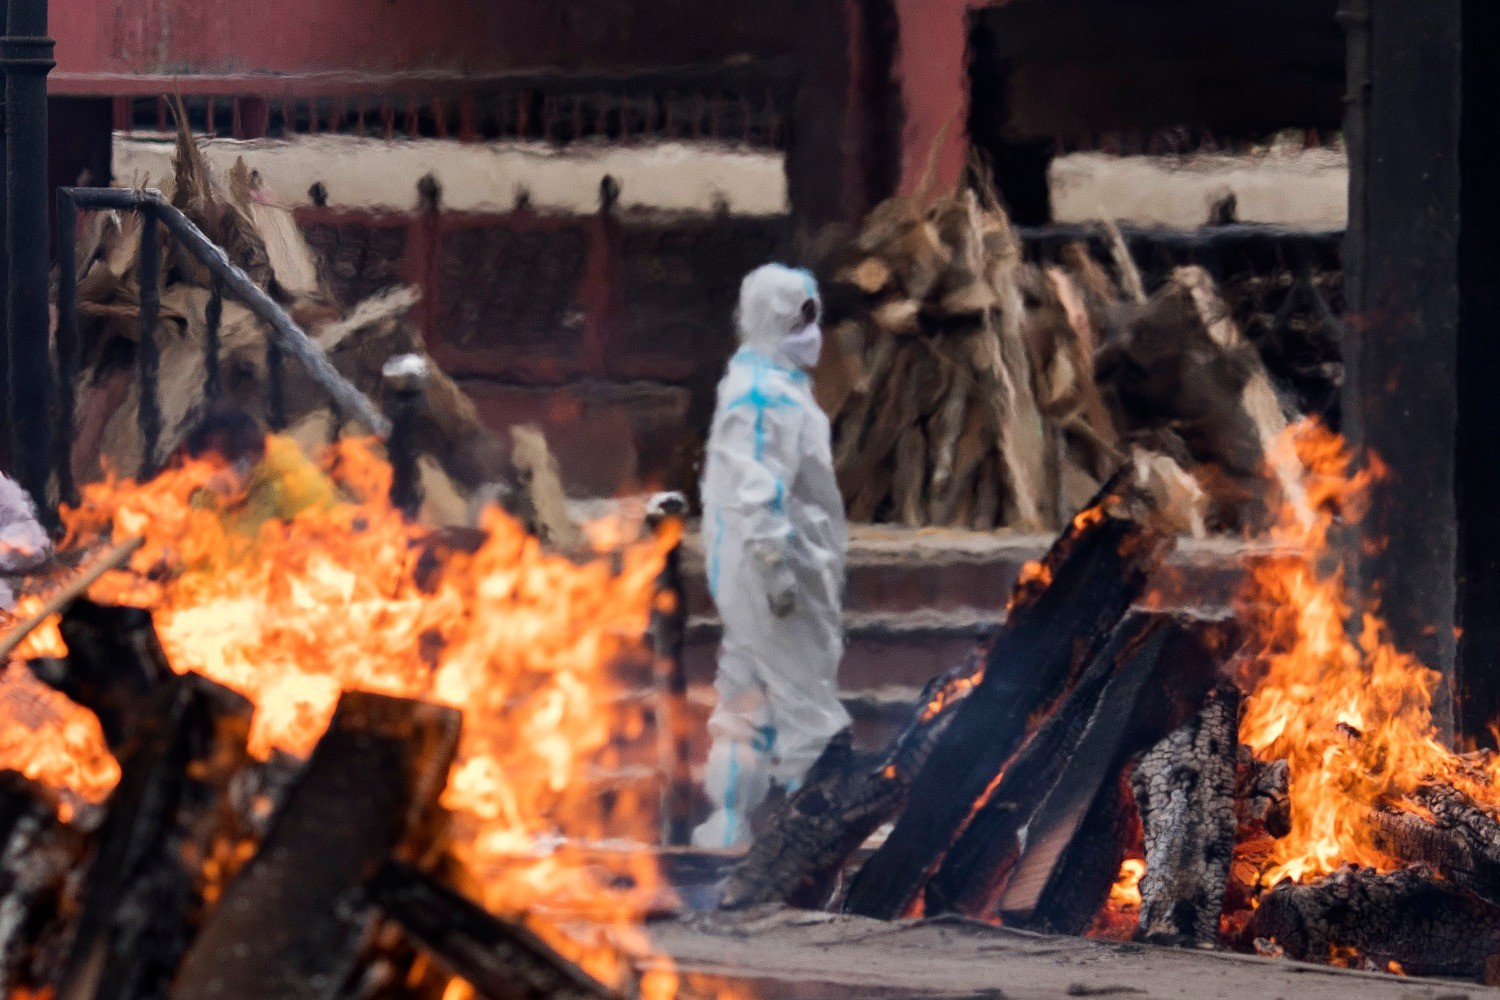Coverall: (693, 240, 864, 875)
with_mask: (783, 298, 821, 371)
